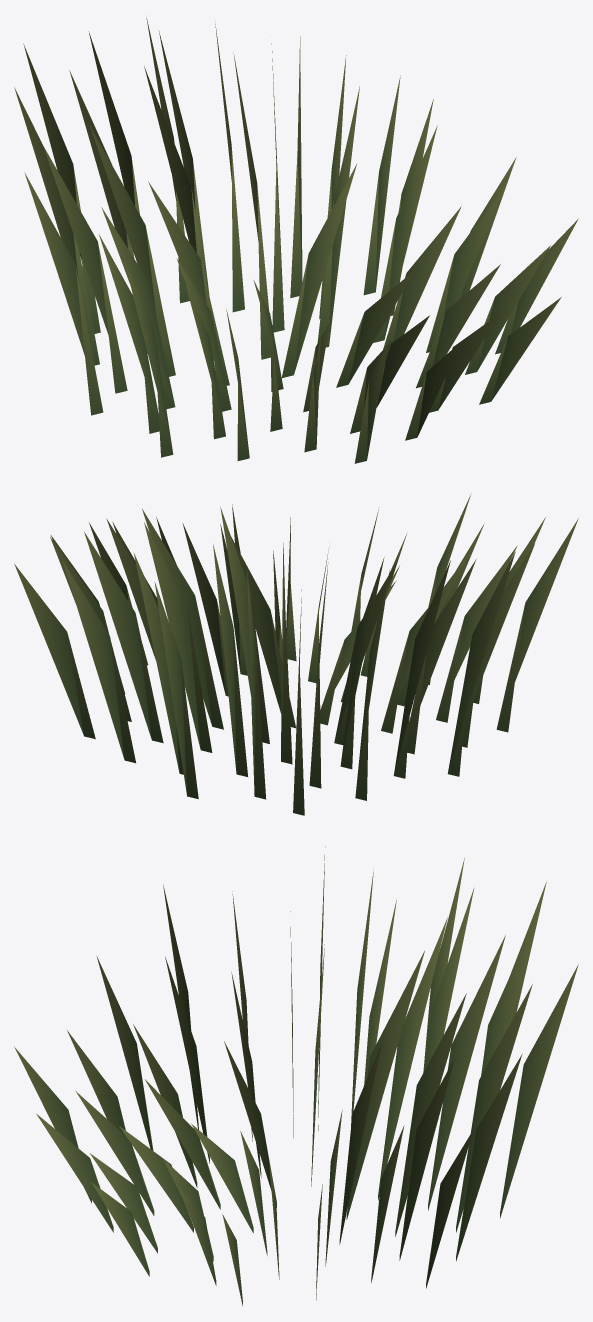
Rendered from grass.glb.
The picture shows the model from 3 angles, top to bottom: view 1: azimuth 30°, elevation 25°; view 2: azimuth 150°, elevation 25°; view 3: azimuth 270°, elevation 25°; orthographic projection. The views are drawn at different scales.
Visible parts, largest first — view 1: GrassBlades; view 2: GrassBlades; view 3: GrassBlades.
Boxes of the visible parts, x1,y1,x2,y2 form: GrassBlades: (14, 18, 578, 463); GrassBlades: (14, 493, 578, 815); GrassBlades: (14, 846, 578, 1306).
Size of the model in its own units: 1.8 by 0.9478 by 1.79.
